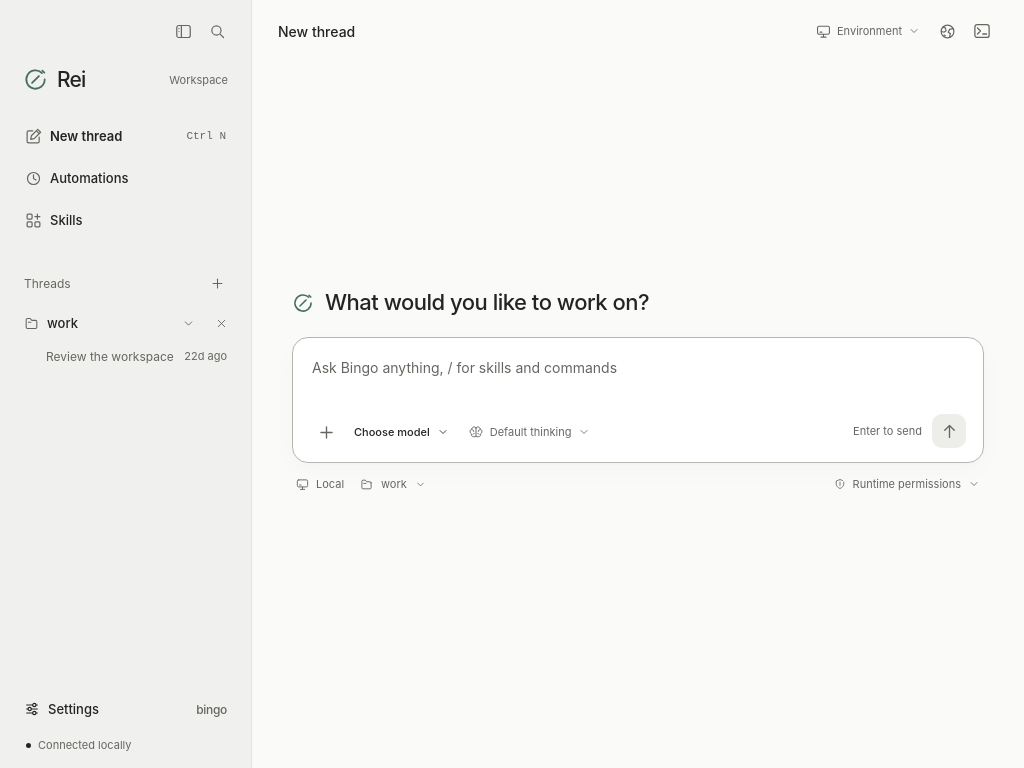
Test: desktop user journeys › keeps a rejected first draft visible in its newly created session
Check: the text "Connected locally" is shown, box left=38, top=738, right=132, bottom=752
Check: the button named "Send message" is disabled, box left=932, top=414, right=966, bottom=448
Type "Keep this draft" into the text box named "Message bingo" at (638, 381), box left=307, top=350, right=969, bottom=412
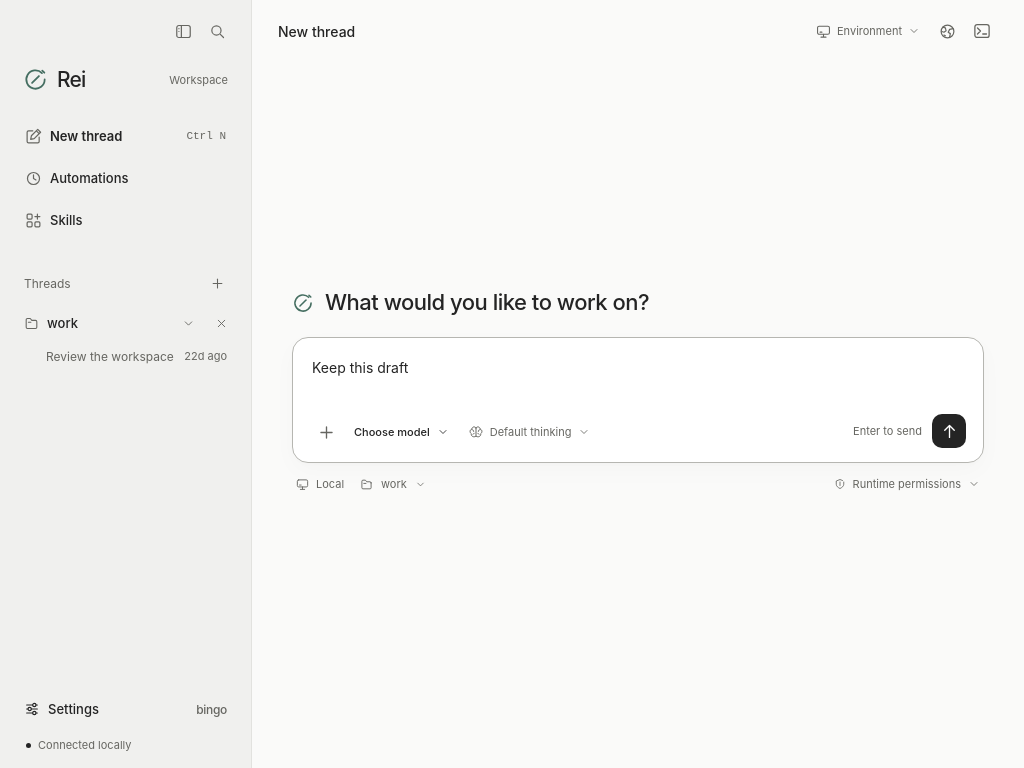
Click the button named "Send message" at (949, 431), box left=932, top=414, right=966, bottom=448
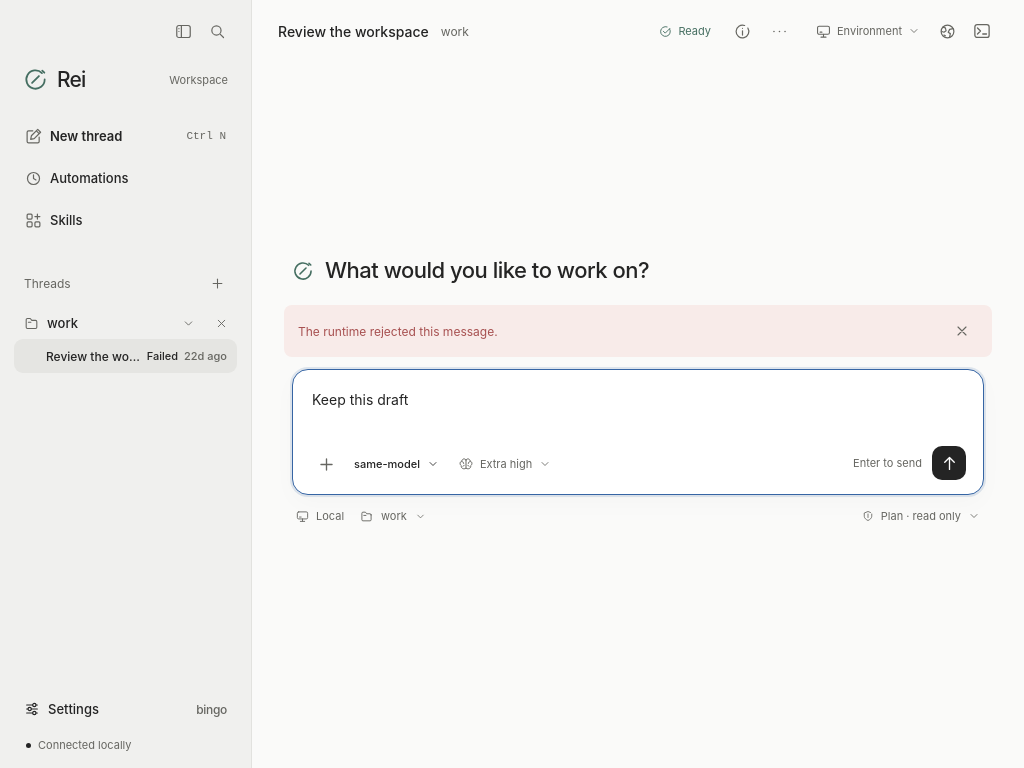
Check: the text "The runtime rejected this message." is shown, box left=298, top=324, right=498, bottom=339
